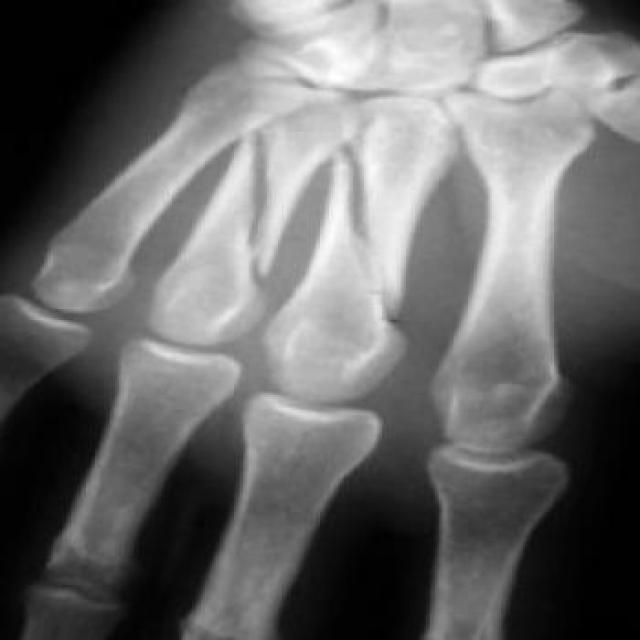Fracture: (329, 131, 423, 348), (229, 122, 290, 299)
